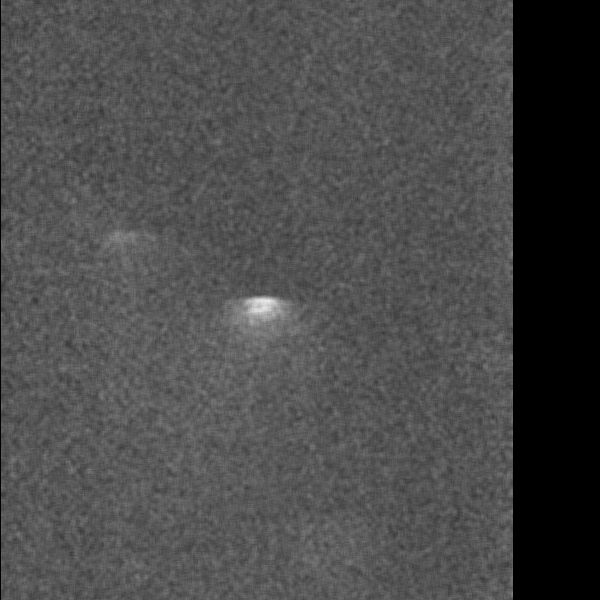spark: (227, 286, 295, 379), (103, 218, 157, 261)
